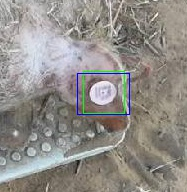text: (83, 71, 124, 113)
